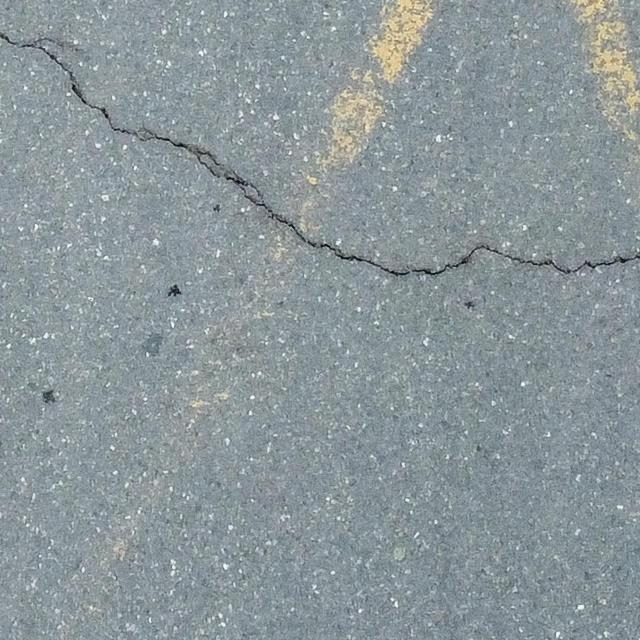TransverseCrack: (1, 33, 640, 276)
